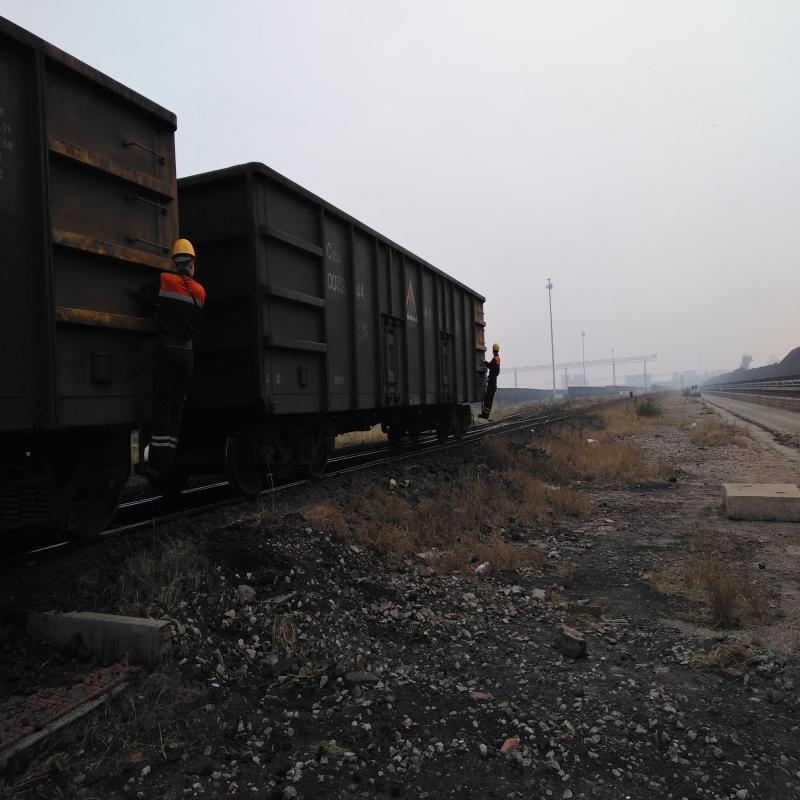train: (212, 166, 434, 478)
